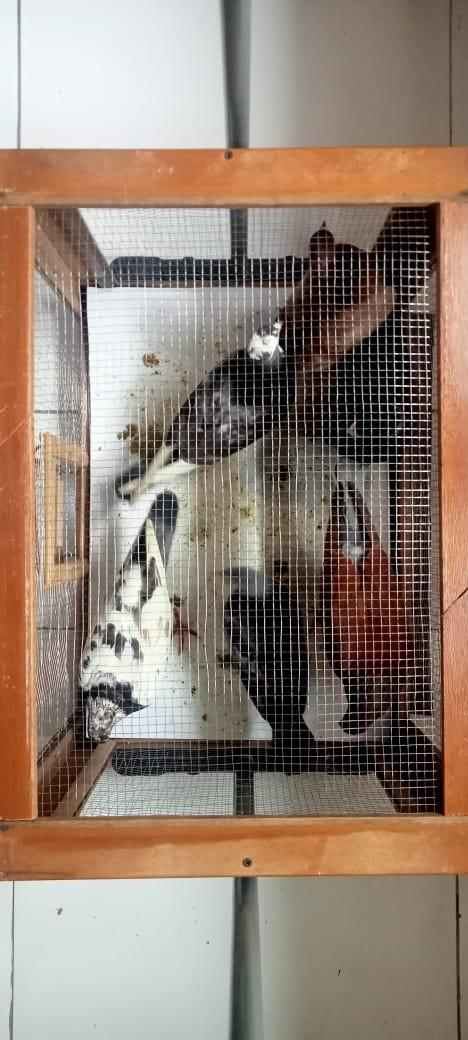Merpati: (114, 324, 290, 502), (273, 222, 400, 436), (320, 464, 418, 736), (76, 493, 178, 743), (211, 568, 322, 774), (325, 259, 418, 466)
